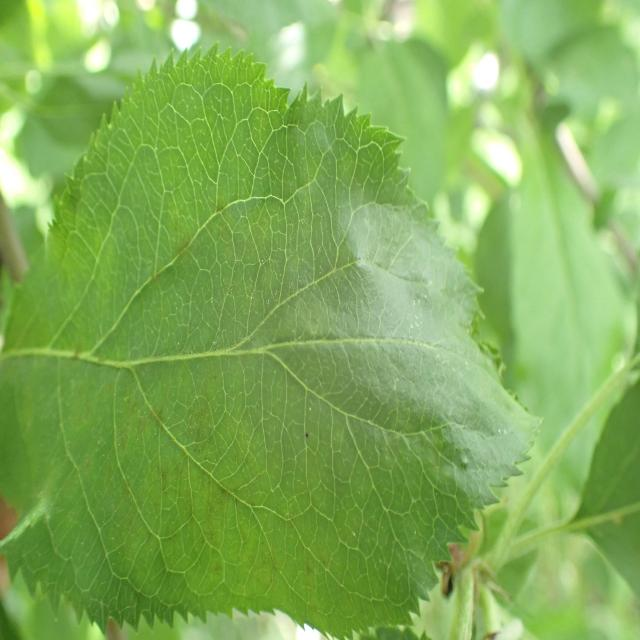scab: (63, 194, 350, 624)
